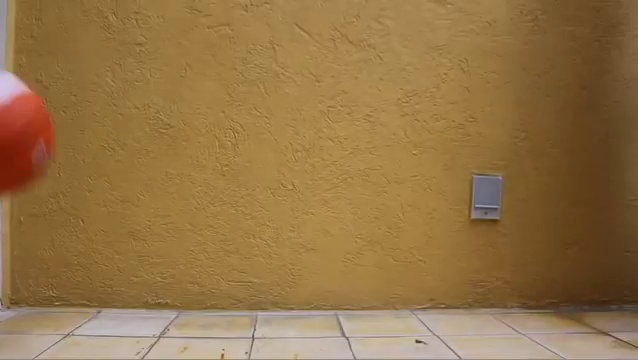ball: (1, 69, 57, 206)
